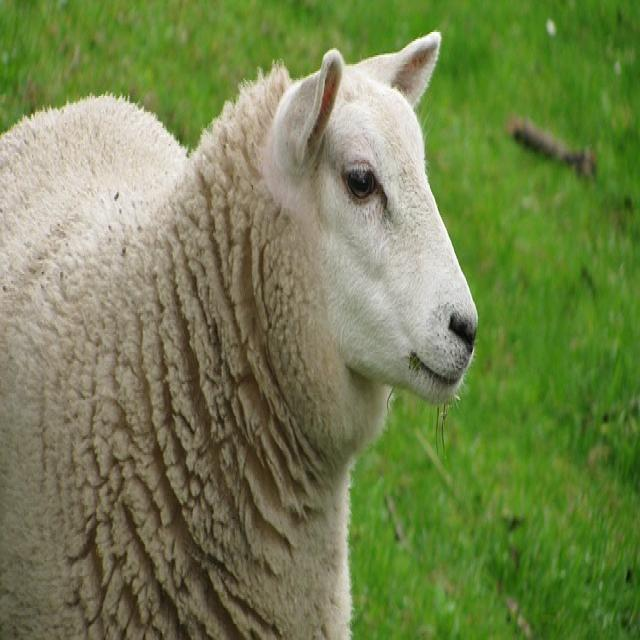goat: (0, 31, 476, 637)
